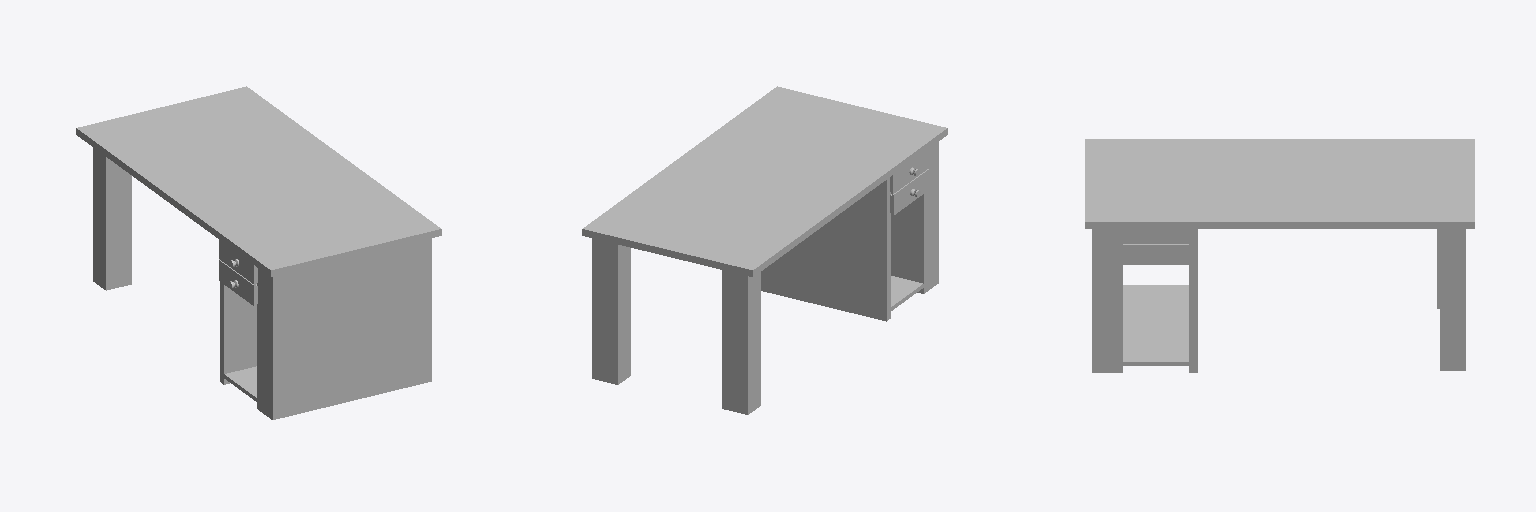
The model's file is desk.obj.
3 renders of one model, left to right at view 1: azimuth 30°, elevation 25°; view 2: azimuth 150°, elevation 25°; view 3: azimuth 270°, elevation 25°, orthographic.
Visible parts, largest first — view 1: Куб, Куб.006, Куб.005; view 2: Куб, Куб.006, Куб.005; view 3: Куб, Куб.006, Куб.005.
Boxes of the visible parts, x1=… form: Куб: x1=76, y1=86, x2=441, y2=419; Куб.006: x1=219, y1=259, x2=257, y2=305; Куб.005: x1=219, y1=240, x2=257, y2=284; Куб: x1=582, y1=86, x2=947, y2=414; Куб.006: x1=890, y1=169, x2=928, y2=214; Куб.005: x1=890, y1=150, x2=927, y2=193; Куб: x1=1085, y1=139, x2=1474, y2=372; Куб.006: x1=1123, y1=249, x2=1188, y2=264; Куб.005: x1=1123, y1=229, x2=1188, y2=243.
Bounding box in the file's own units: 5.26 × 4.38 × 10.05.